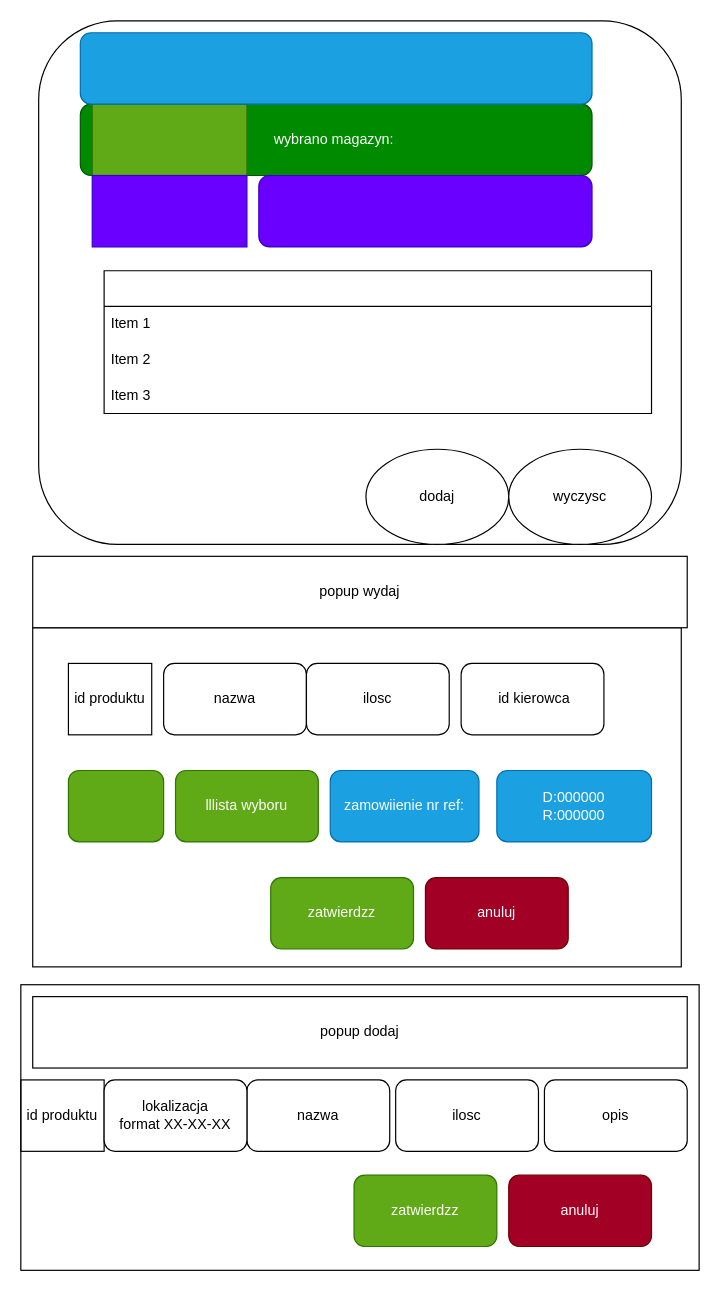
The diagram is 720 pixels wide and 1291 high, and some of its shapes have lost their labels. Each missing label, with the box of its shape:
List: (103, 270, 652, 414)
p do szukania: (258, 174, 592, 247)
Szukaj: (91, 174, 247, 247)
wybor magazynu: (67, 769, 164, 842)
wybor magazzynu: (91, 103, 247, 176)
zalogoany JAnek: (79, 32, 592, 104)
